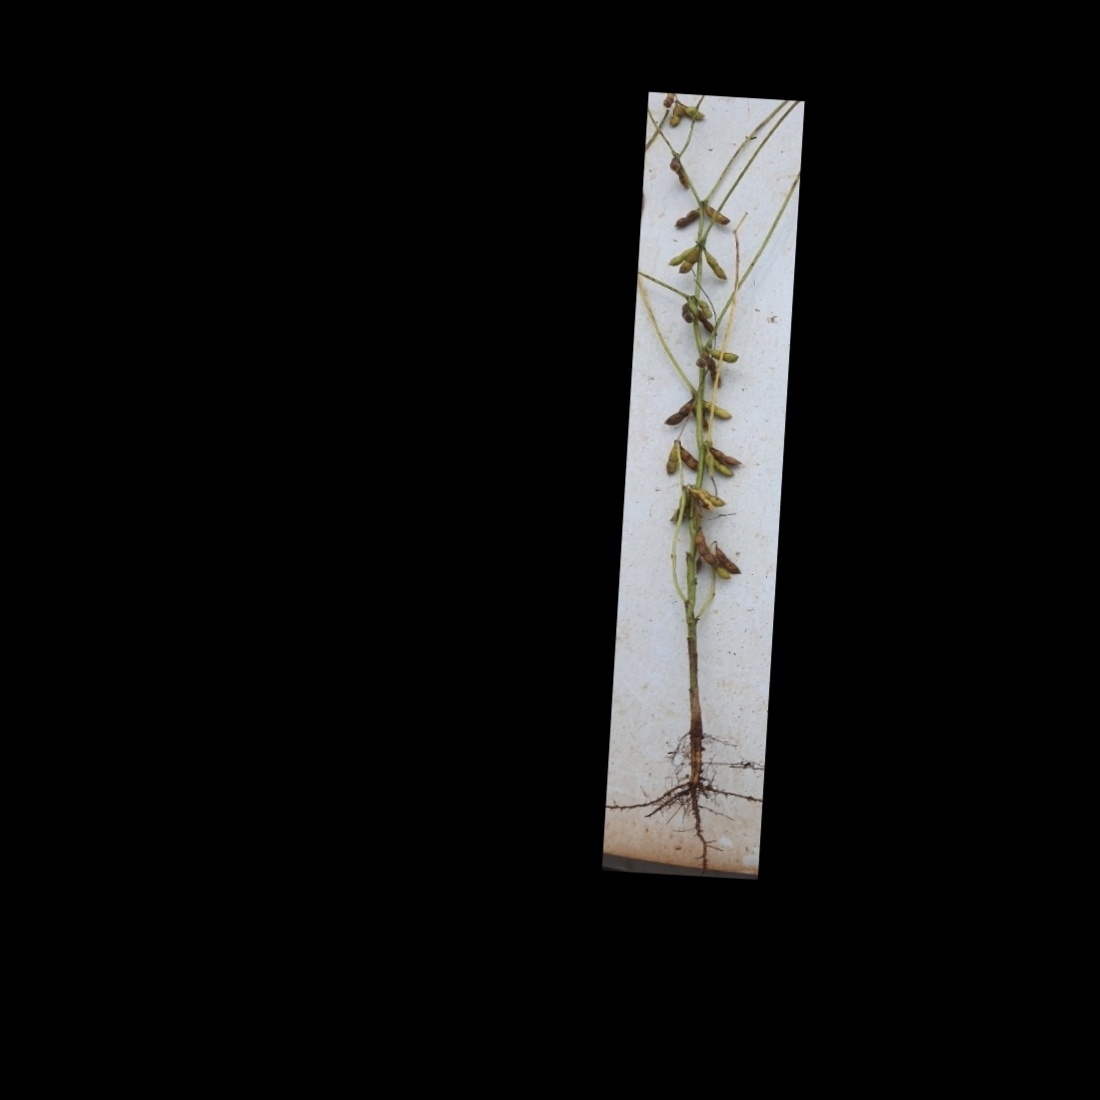pod: (692, 522, 716, 566), (701, 250, 731, 284), (662, 397, 694, 428), (700, 202, 736, 227), (701, 396, 734, 422), (674, 443, 700, 472), (671, 207, 702, 231), (709, 343, 743, 365), (662, 443, 679, 476), (666, 103, 684, 130)
soy: (609, 93, 791, 826)
